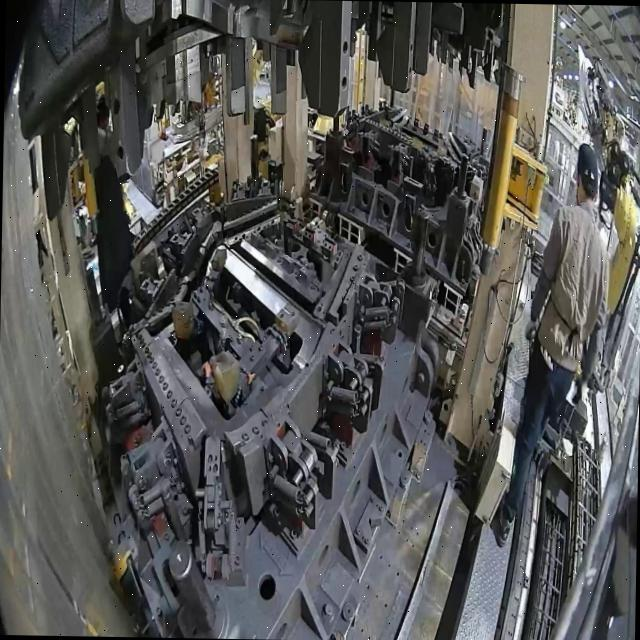Person: (490, 140, 610, 550)
